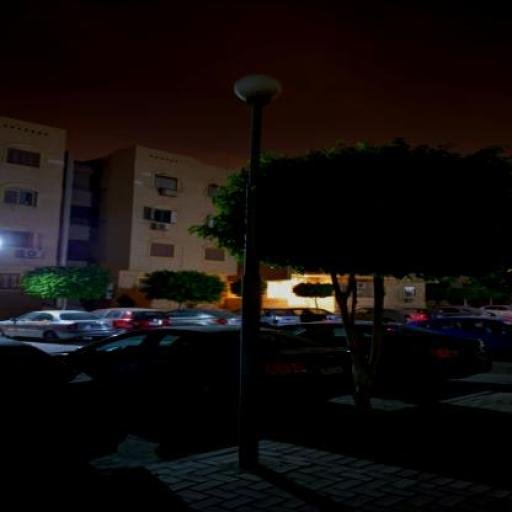street light: (232, 74, 284, 465)
